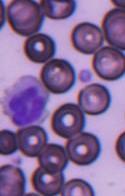N: (2, 74, 48, 128)
